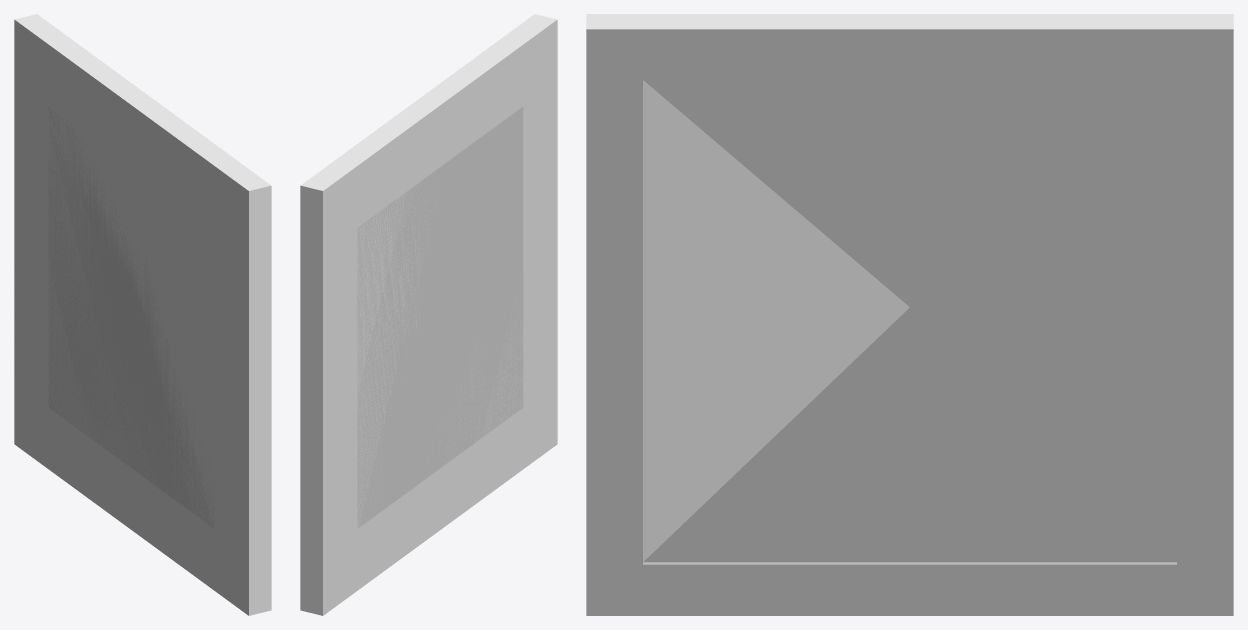
Rendered from ExportedBlenderFBXFile.fbx.
The picture shows the model from 3 angles, left to right: view 1: azimuth 30°, elevation 25°; view 2: azimuth 150°, elevation 25°; view 3: azimuth 270°, elevation 25°; orthographic projection. The views are drawn at different scales.
Parts seen in each view (by area): view 1: selish; view 2: selish; view 3: selish.
Part boxes in pixels (<box>): selish: <box>14,14,271,615</box>; selish: <box>300,14,557,615</box>; selish: <box>586,14,1233,615</box>.
Bounding box in the file's own units: 0.0894 × 1.6 × 1.6.
